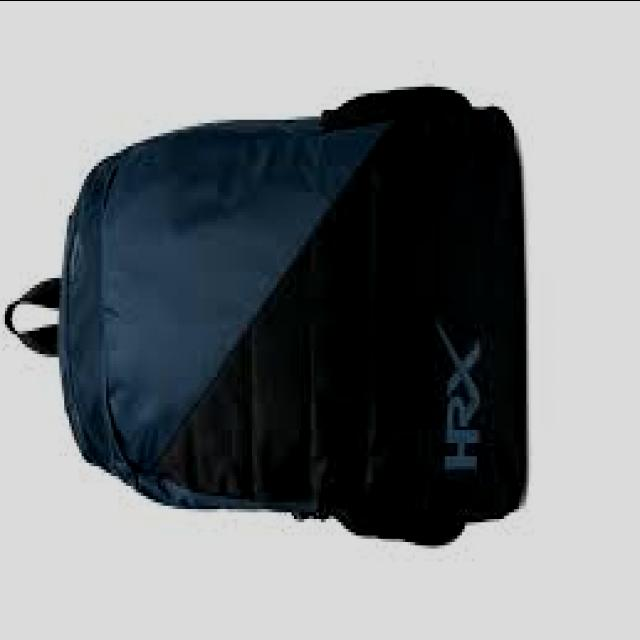backpack: (4, 87, 528, 549)
